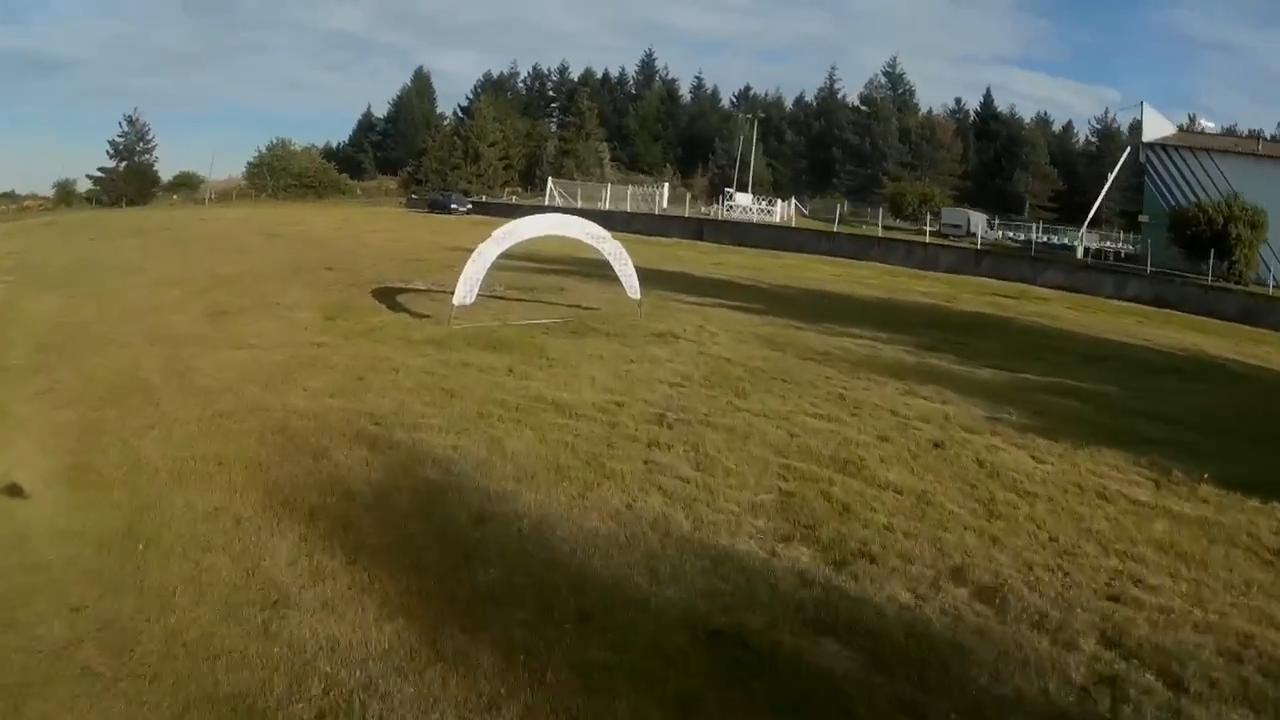gate: (450, 210, 638, 306)
